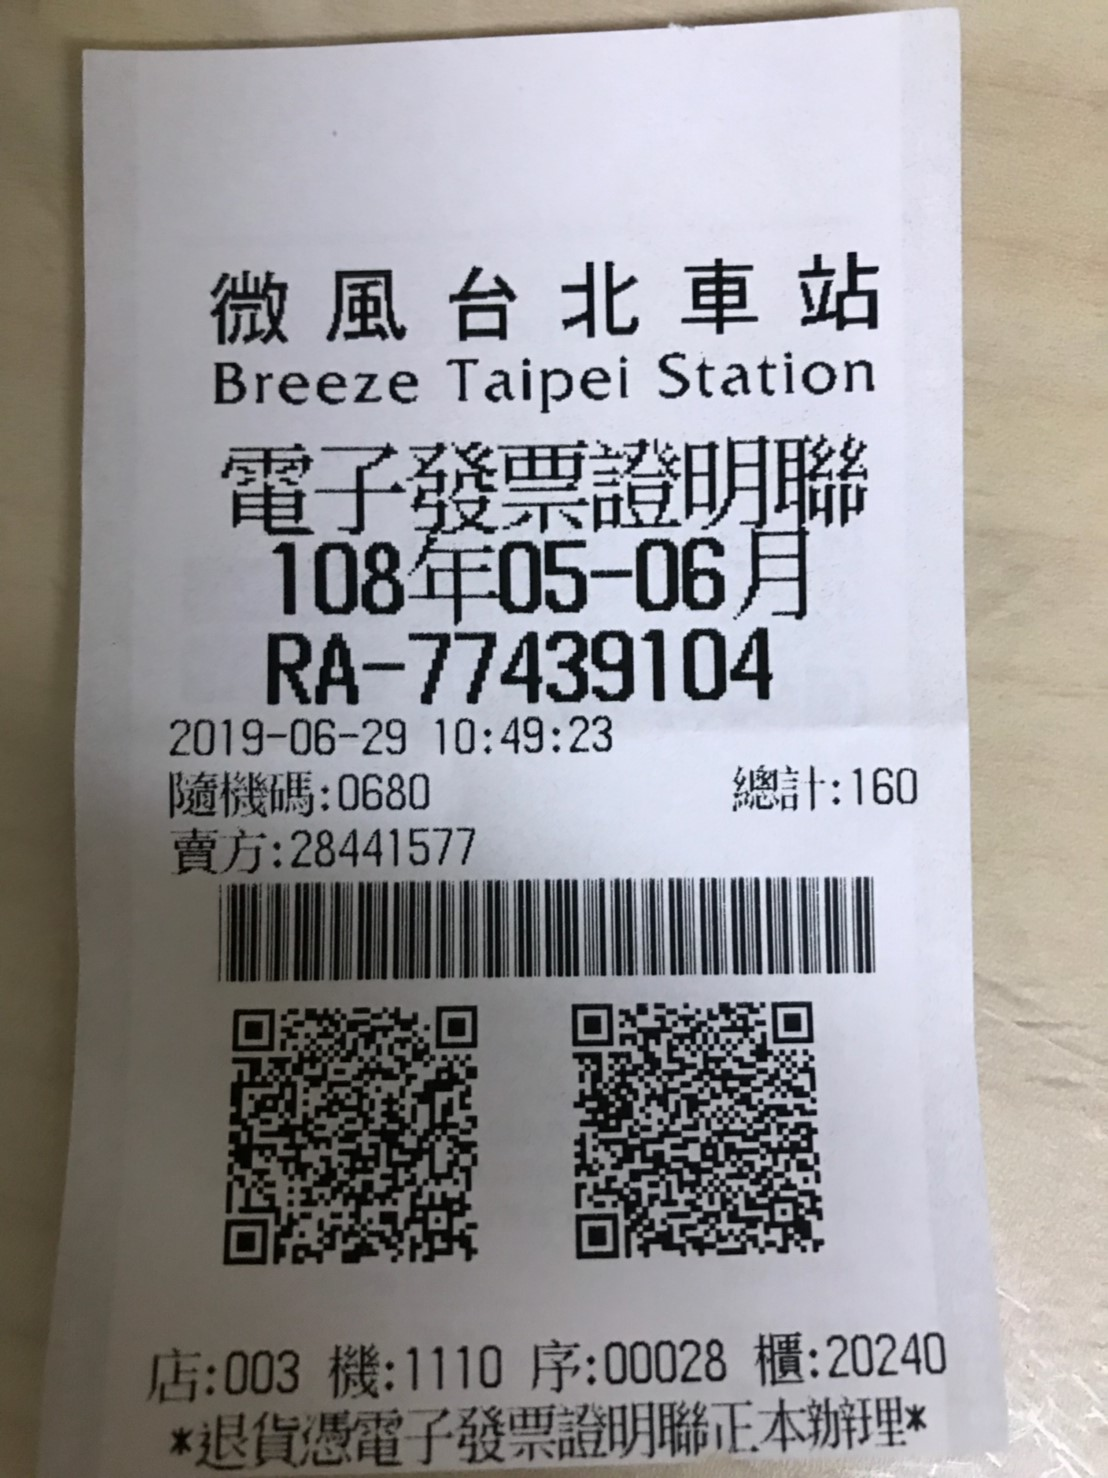Date_New: (271, 527, 811, 626)
Number_New: (405, 625, 783, 708)
